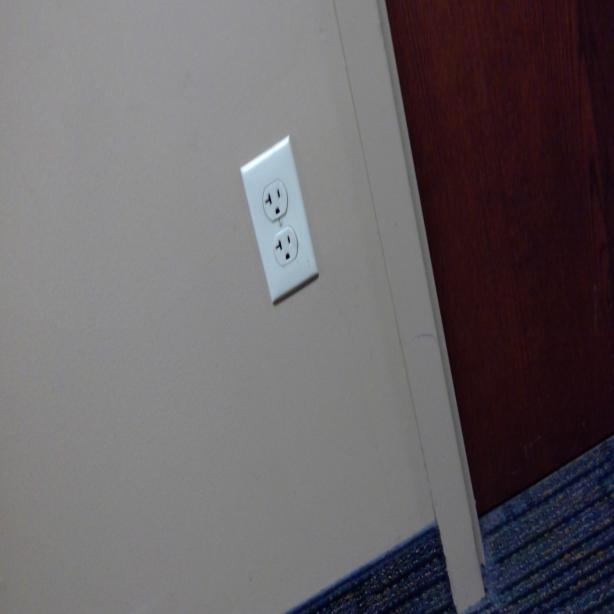typeb: (262, 181, 288, 224), (274, 231, 297, 268)
